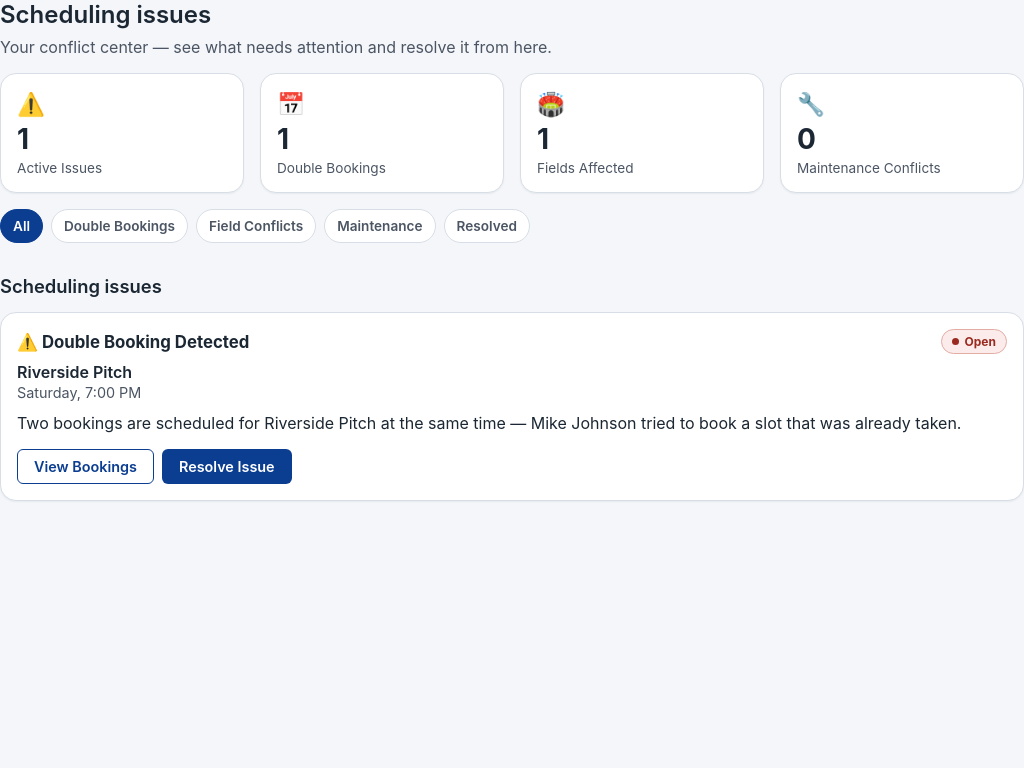
Test case: SchedulingIssuesPage › opens the resolve modal showing both the real and the declined booking, and marking resolved removes the issue from the open list
Check: the text "⚠️ Double Booking Detected" is shown, box [17,332,249,352]
Click the button "Resolve Issue" at coordinates (227, 467), box [162,449,292,484]
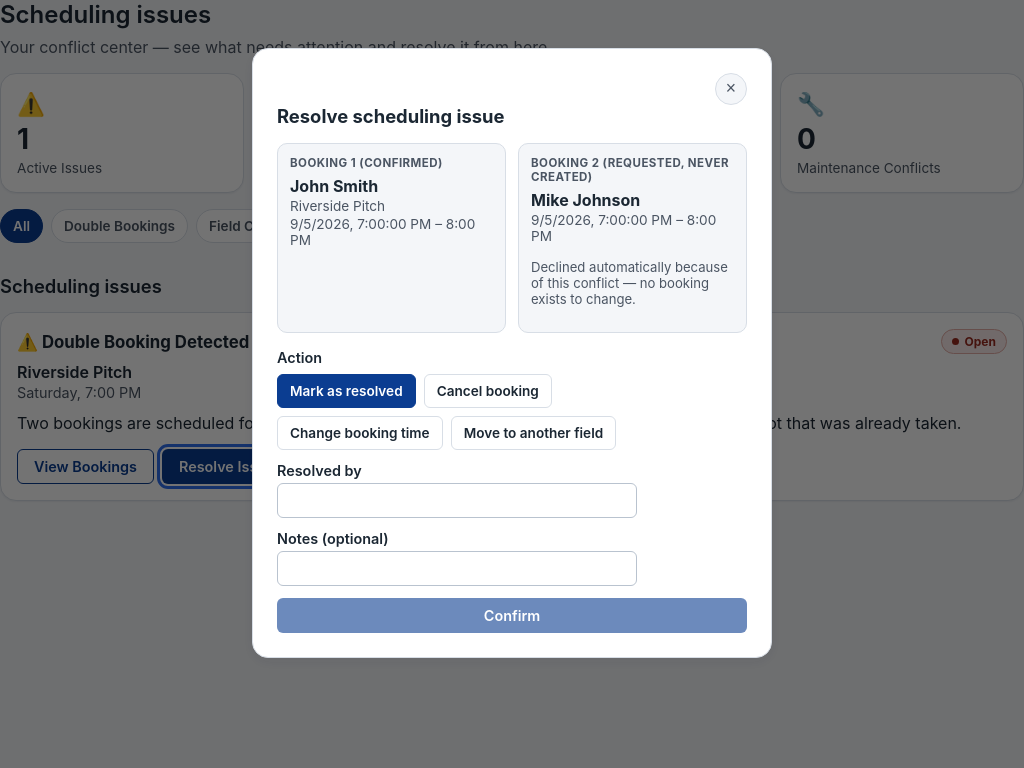
Check: the text "John Smith" is shown, box [290,176,378,196]
Check: the text "Mike Johnson" is shown, box [531,190,640,210]
Check: the text "Booking 2 (requested, never created)" is shown, box [531,156,734,184]
Type "Manager Mo" into the field labelled "Resolved by" at coordinates (457, 501), box [277,483,637,518]
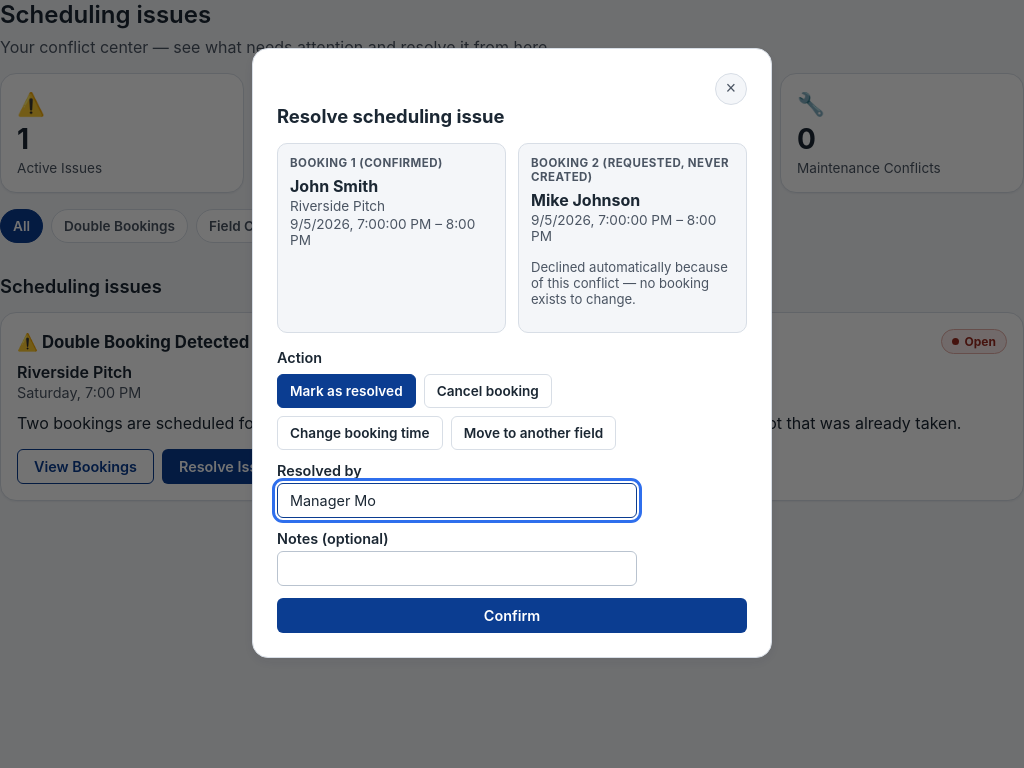
Click the button "Confirm" at coordinates (512, 616), box [277,598,747,633]
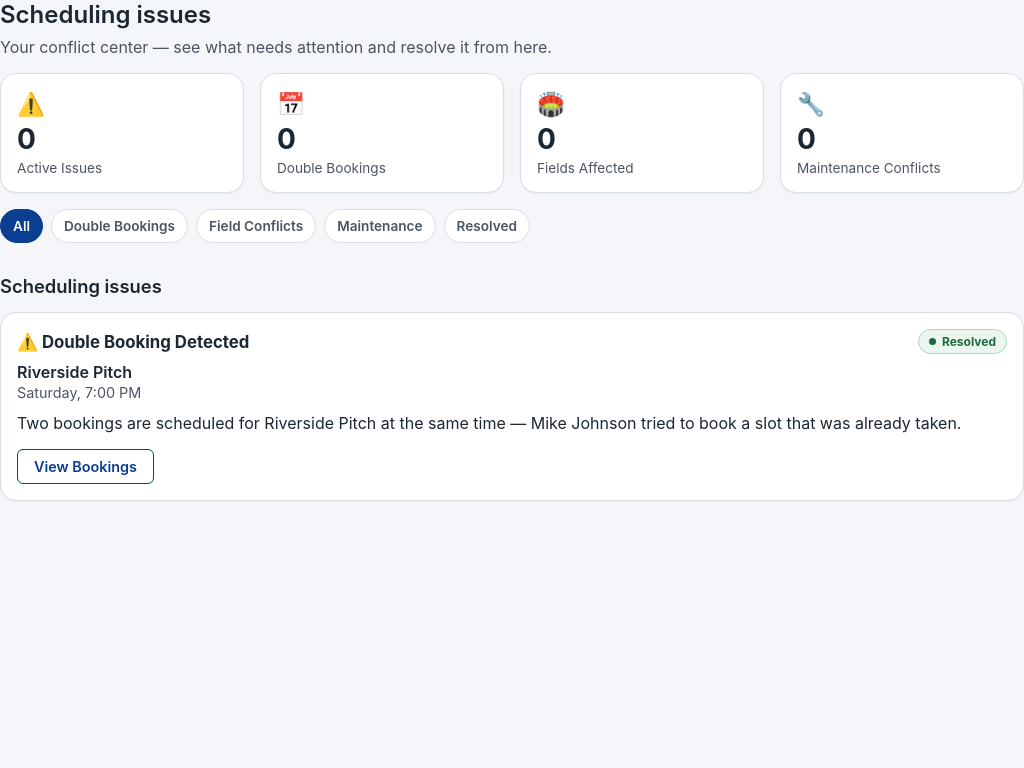
Check: the dialog is gone
Check: the button "Resolve Issue" is gone
